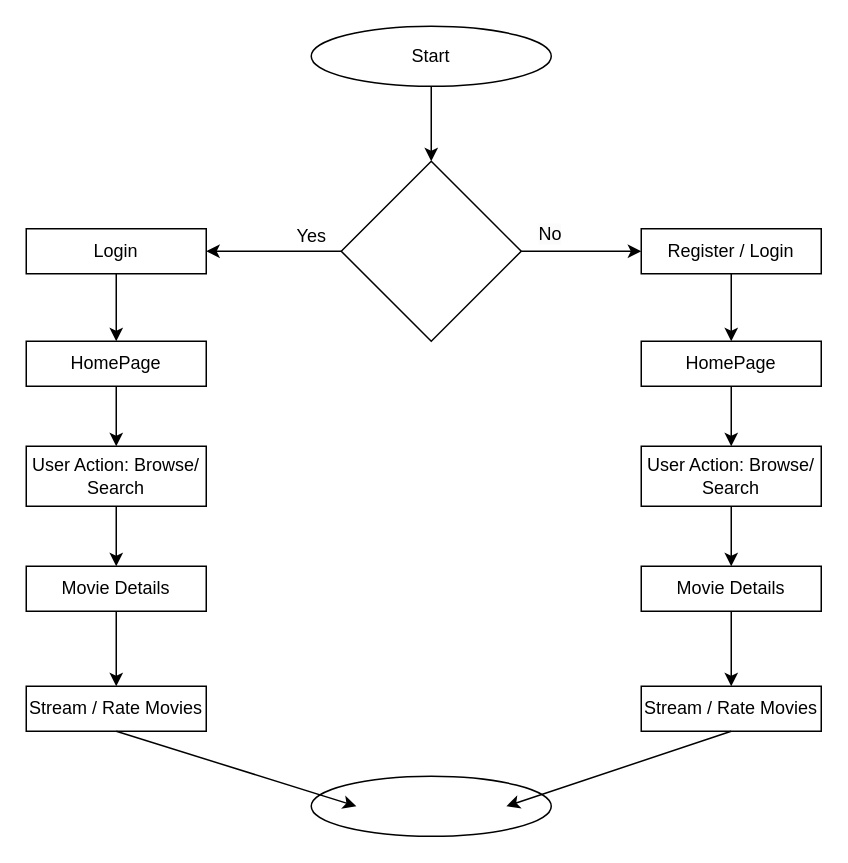
Image size: 848x863. Some labels were removed from this diagram. The shapes that lost their labels are listed below. From the top down, each one's centre as x and y in pixels, then its label:
At pixel 430 250: "Is the user registered?".
At pixel 430 805: "End".
